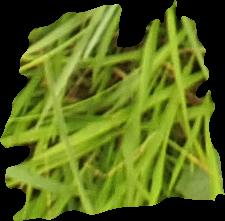grass: (1, 1, 223, 219)
